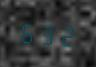six: (18, 18, 36, 46)
three: (38, 19, 56, 47)
two: (57, 20, 75, 48)
